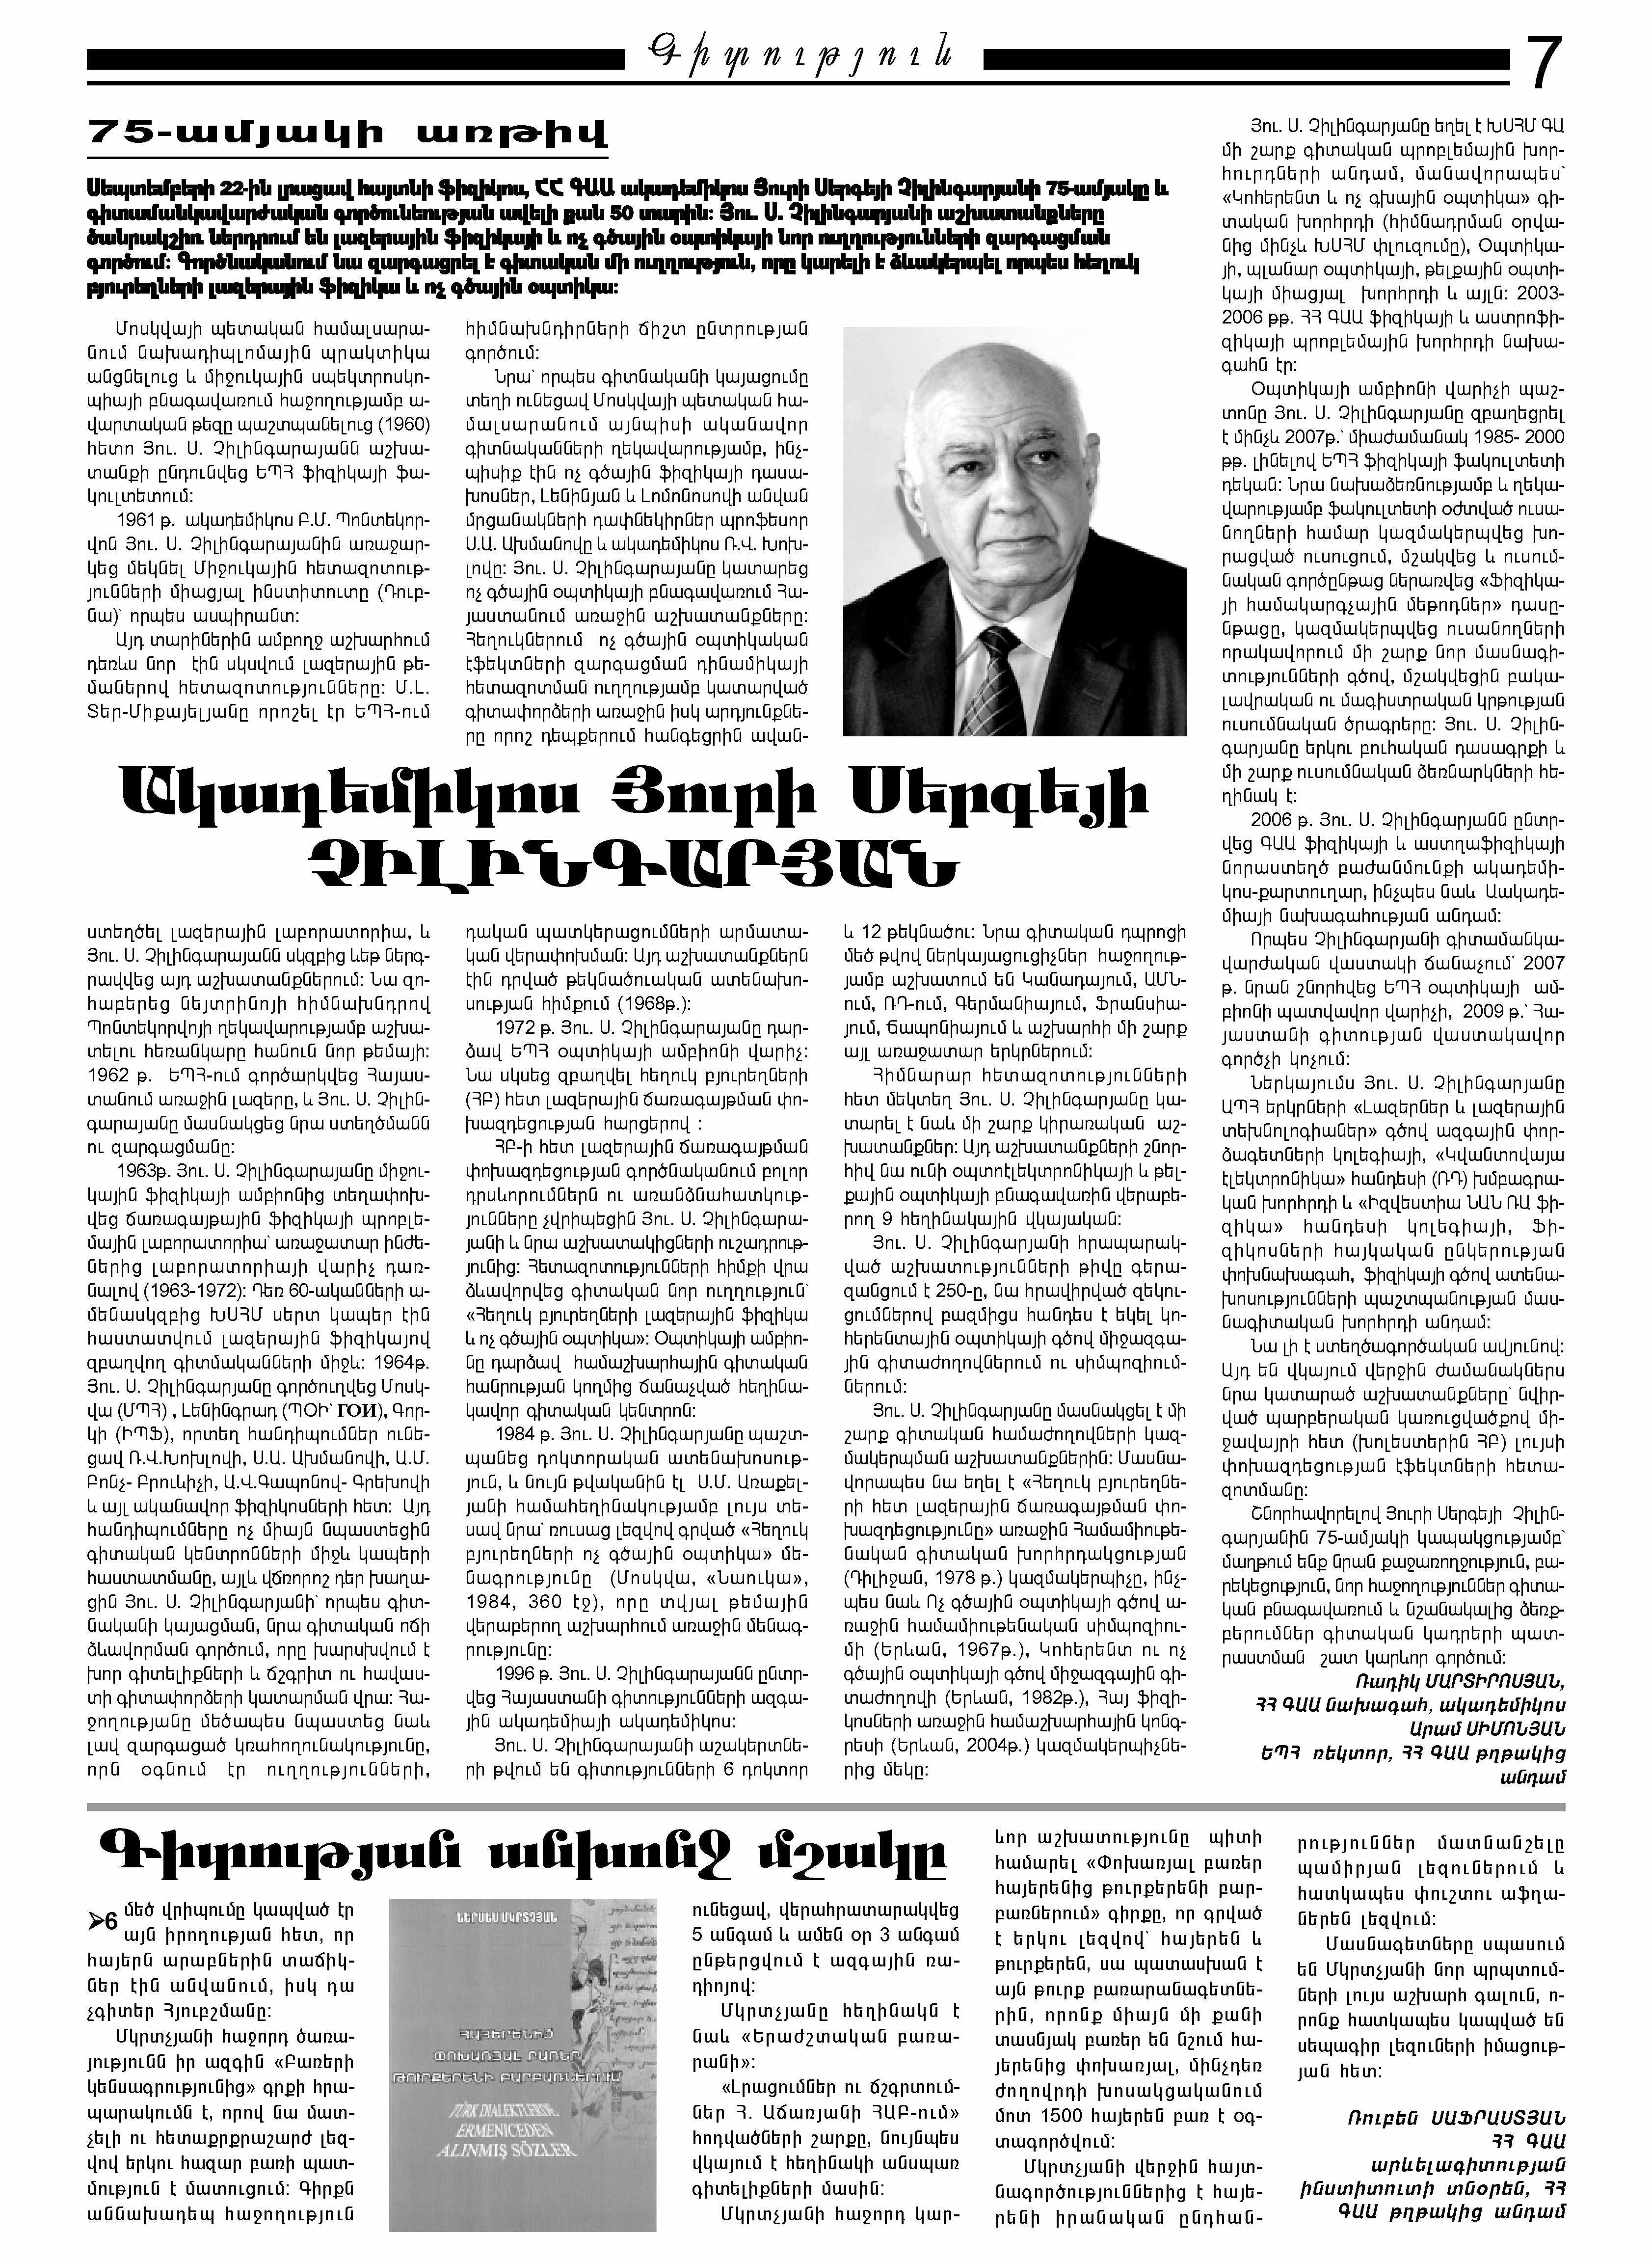table: (837, 300, 1185, 751)
